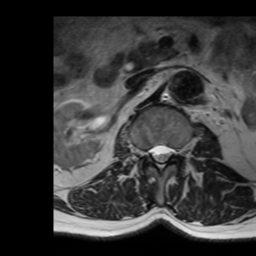CCS_normal: (156, 135, 164, 176)
LFS_stenosis: (173, 138, 182, 163)
LLS_normal: (164, 138, 173, 166)
RFS_stenosis: (140, 138, 148, 164)
RLS_normal: (148, 139, 156, 165)
